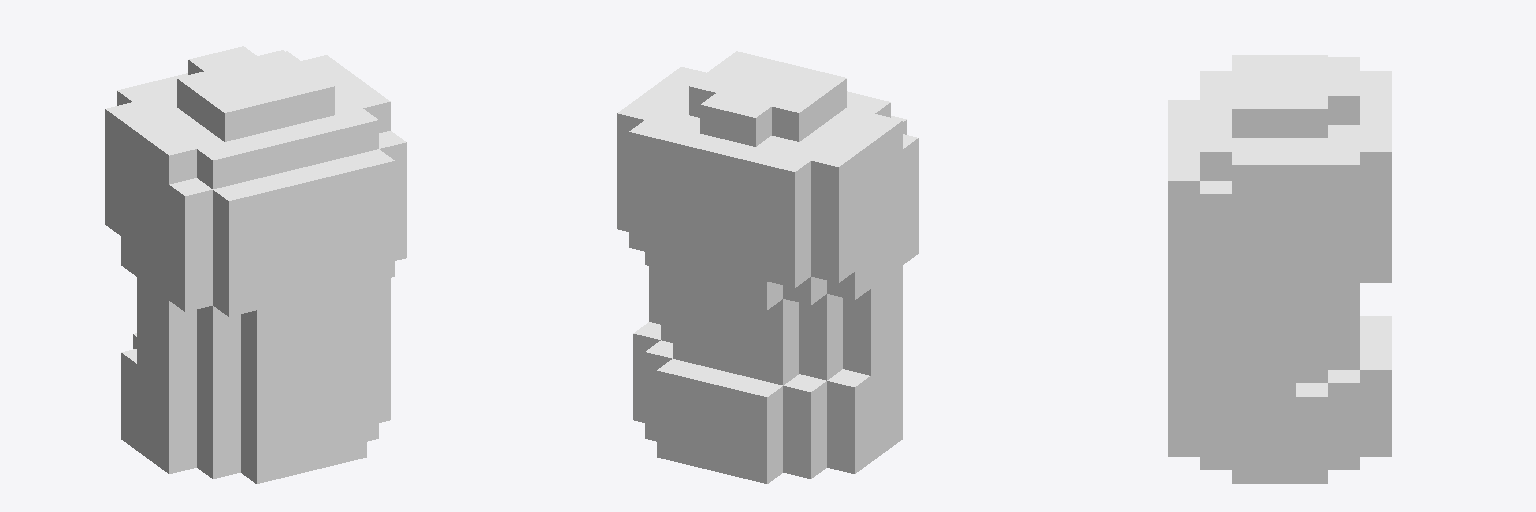
The model's file is char-74-chest_lgt_1c_sh_color.obj.
3 views of the same model, side by side, from view 1: azimuth 30°, elevation 25°; view 2: azimuth 150°, elevation 25°; view 3: azimuth 270°, elevation 25° (orthographic).
Visible parts, largest first — view 1: chest_lgt_1c_sh_color; view 2: chest_lgt_1c_sh_color; view 3: chest_lgt_1c_sh_color.
Boxes of the visible parts, <box> form: chest_lgt_1c_sh_color: <box>105,46,406,483</box>; chest_lgt_1c_sh_color: <box>617,51,918,483</box>; chest_lgt_1c_sh_color: <box>1168,55,1391,483</box>.
Size of the model in its own units: 0.8 by 1.2 by 0.7.